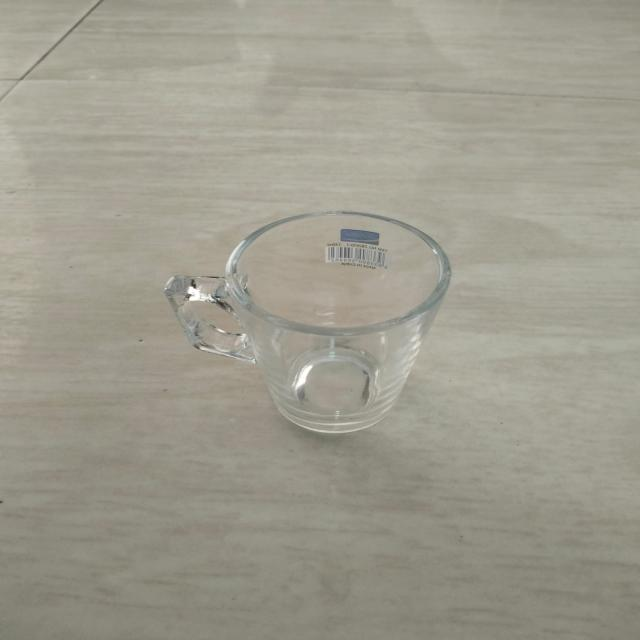glass-VX4N: (169, 208, 473, 438)
